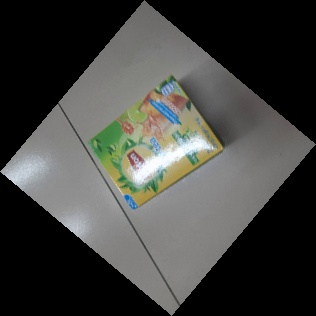LipTon: (85, 74, 225, 212)
